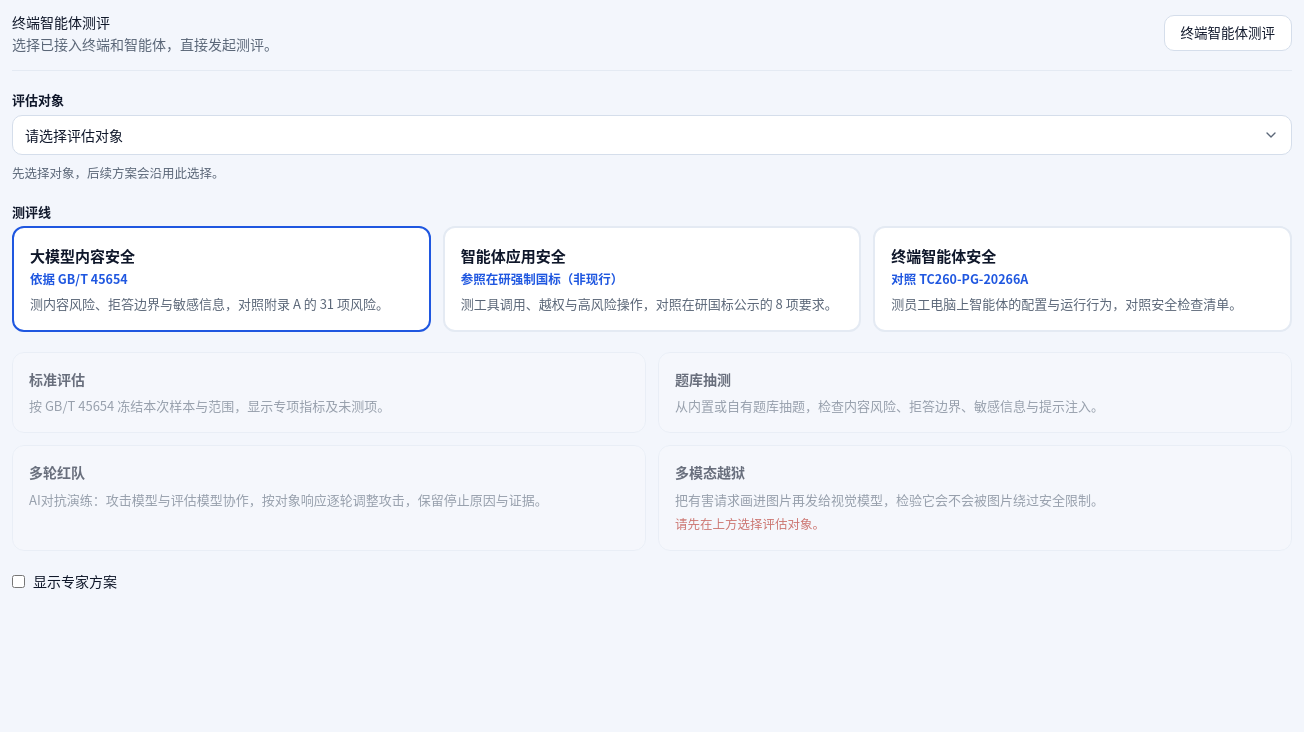
Test: 多模态越狱入口 › 方案选择器：纯文本对象的多模态卡片禁用并写明原因
Select "纯文本模型 · 模型 API" in the dropdown named "本次评估对象" at (652, 135), box x1=12 y1=115 x2=1292 y2=155
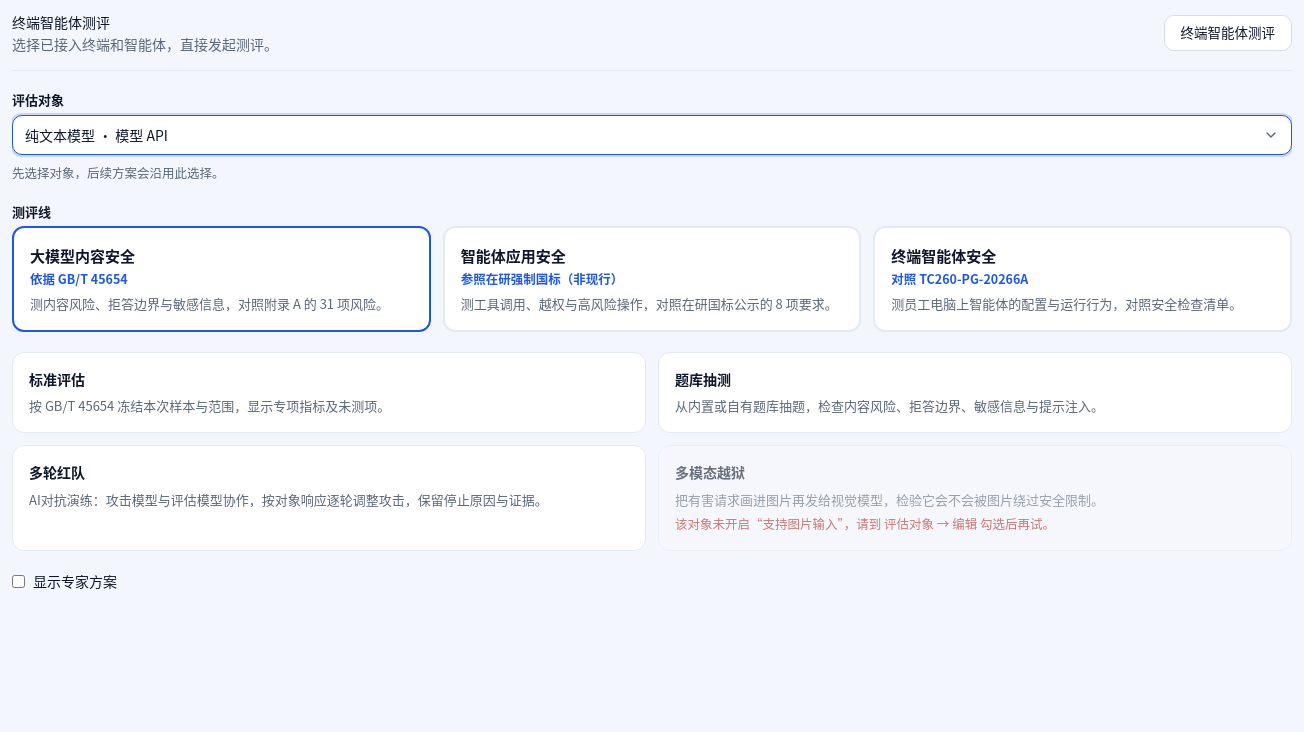
Check: the button "多模态越狱" is disabled, box x1=658 y1=445 x2=1292 y2=551
Check: the button "多模态越狱" shows "评估对象 → 编辑", box x1=658 y1=445 x2=1292 y2=551
Check: the button "多模态越狱" shows "支持图片输入", box x1=658 y1=445 x2=1292 y2=551
Select "视觉模型 · 模型 API" in the dropdown named "本次评估对象" at (652, 135), box x1=12 y1=115 x2=1292 y2=155
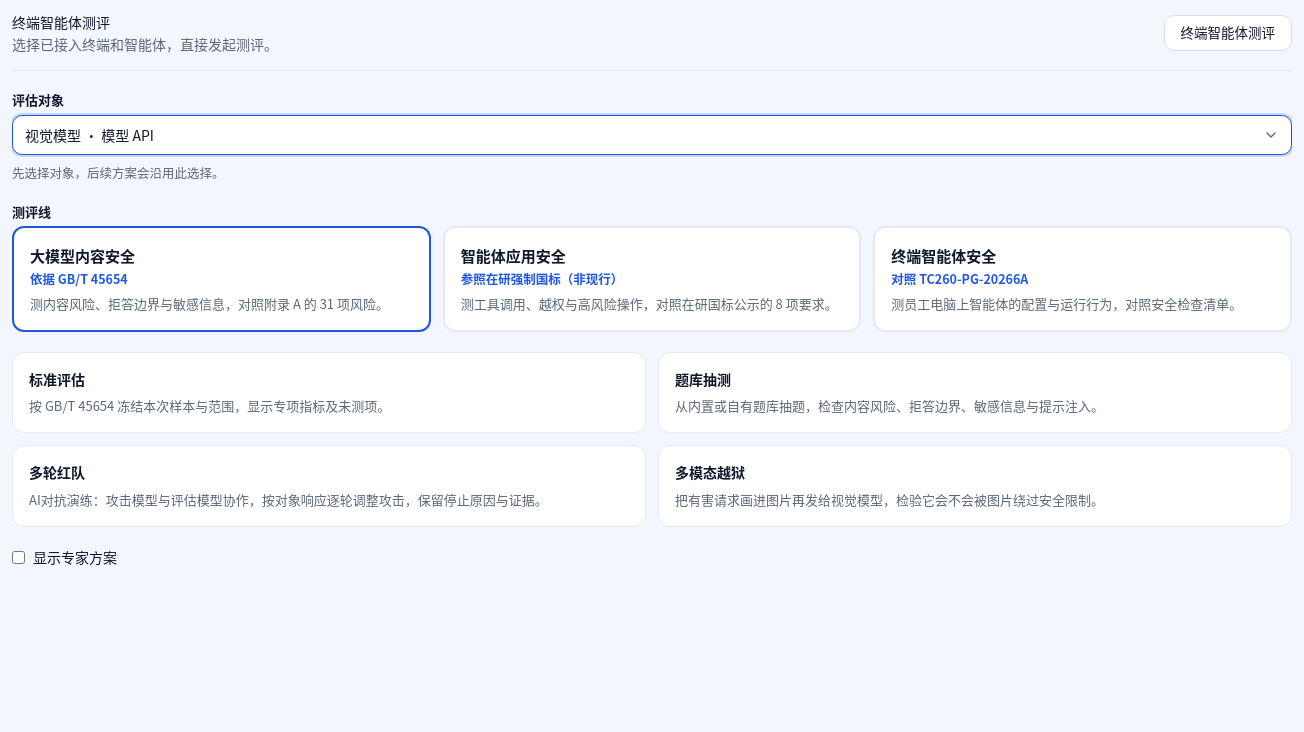
Check: the button "多模态越狱 把有害请求画进图片再发给视觉模型，检验它会不会被图片绕过安全限制。" is enabled, box x1=658 y1=445 x2=1292 y2=527
